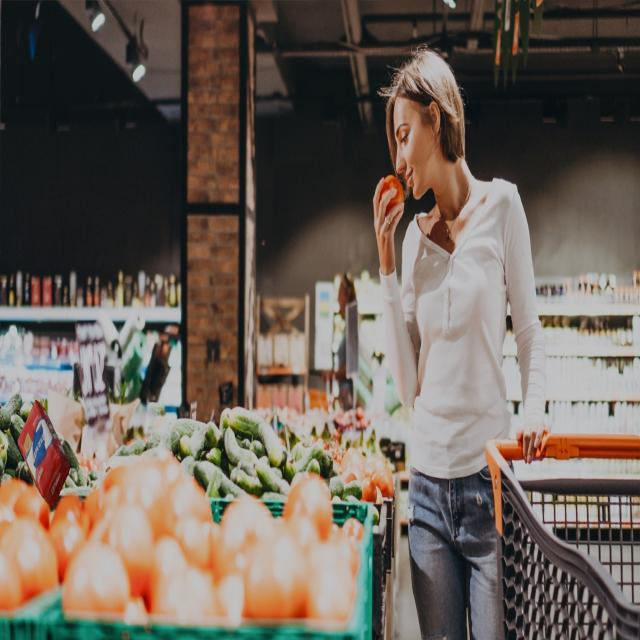mate bag: (18, 398, 70, 509)
